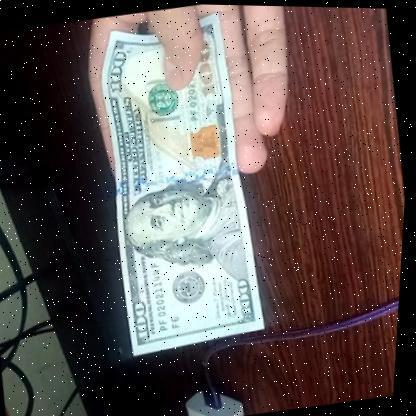one_hundred-front: (76, 6, 286, 360)
